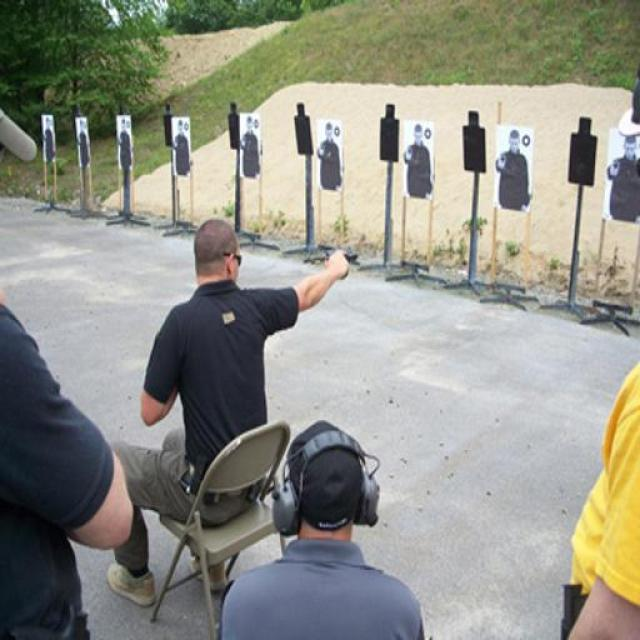pistol: (317, 240, 356, 275)
